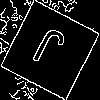J: (25, 25, 69, 78)
